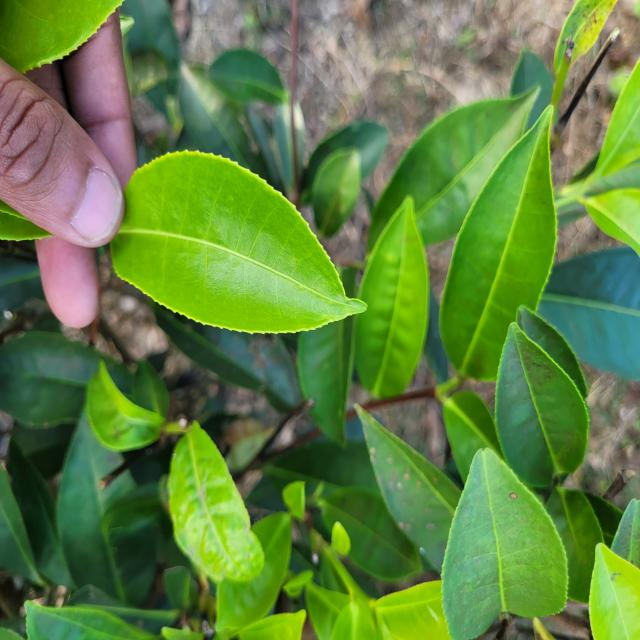Category B 2-4 days: (68, 119, 375, 355)
